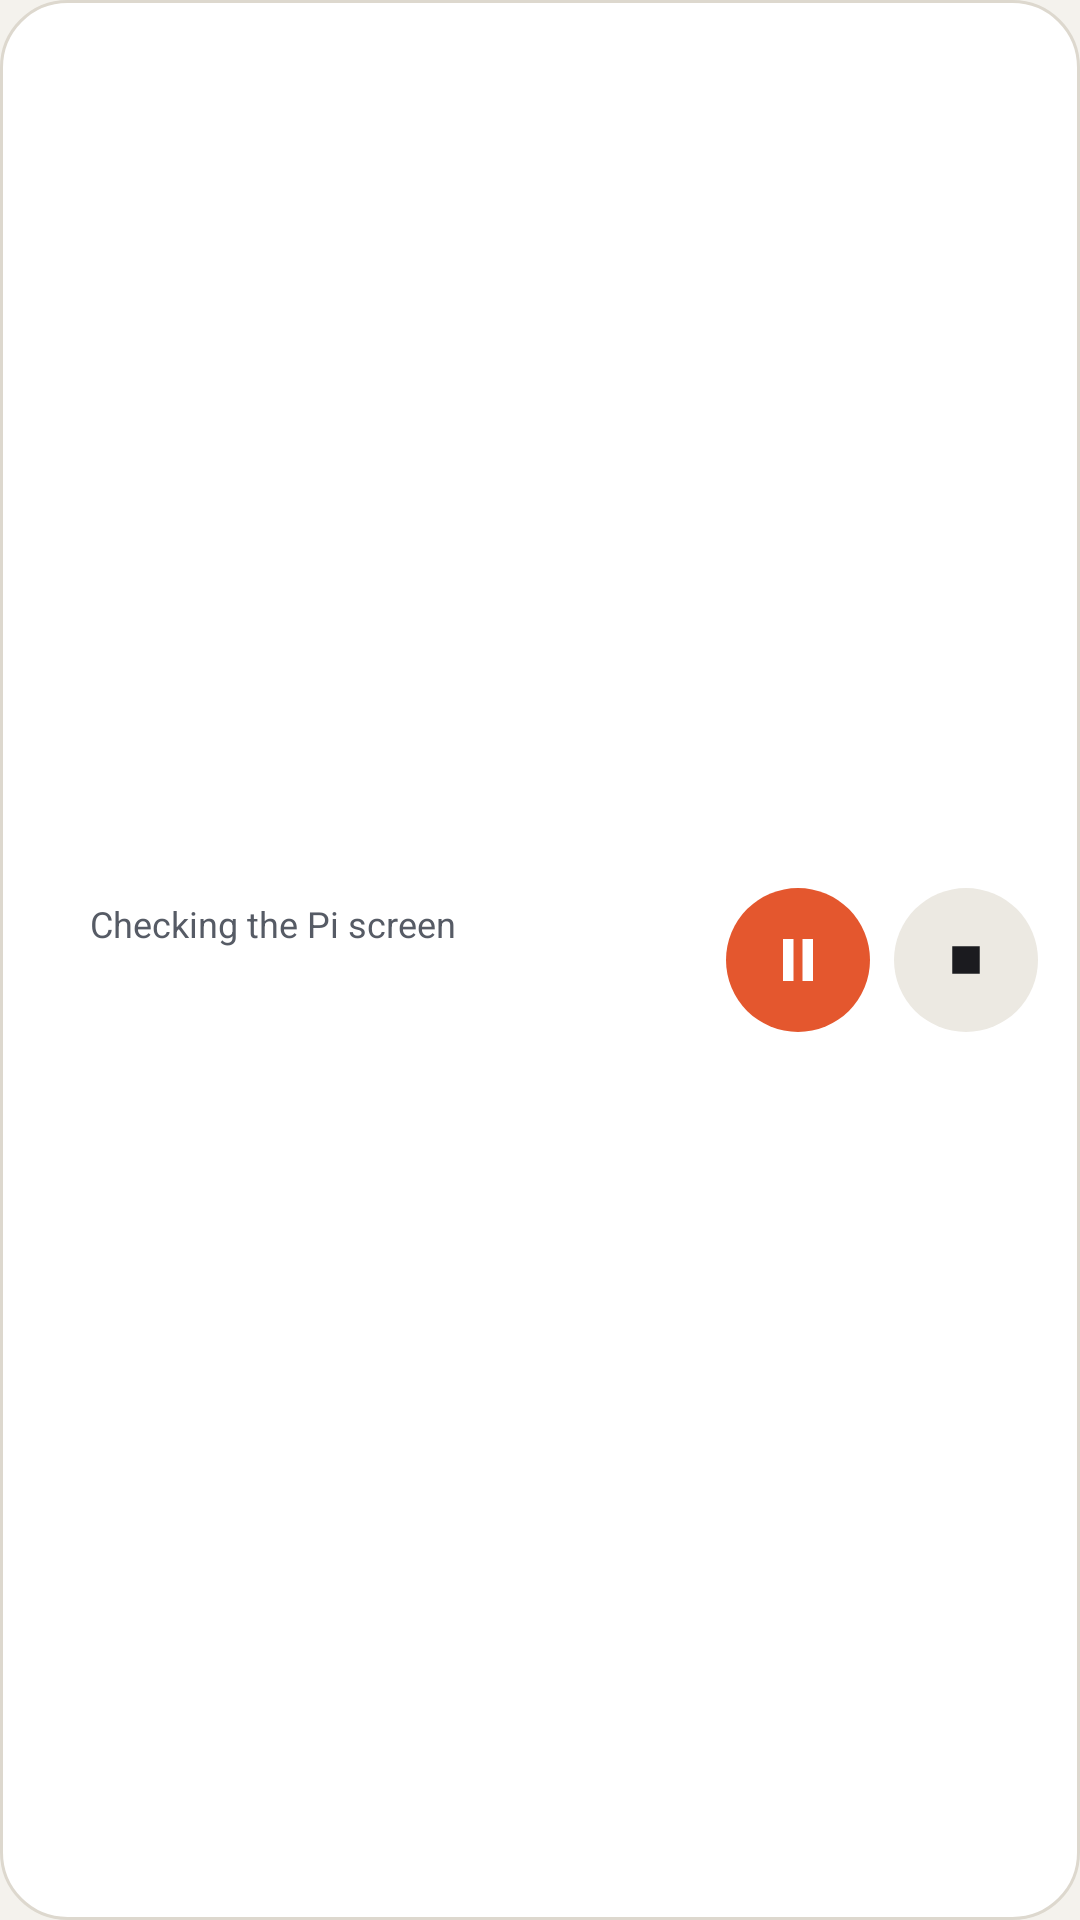

Screen size 1080w x 1920h. Icon name, then its box in pixels as (x1, y1, x2, y2):
Pause or resume: (726, 888, 870, 1032)
Stop: (894, 888, 1038, 1032)
